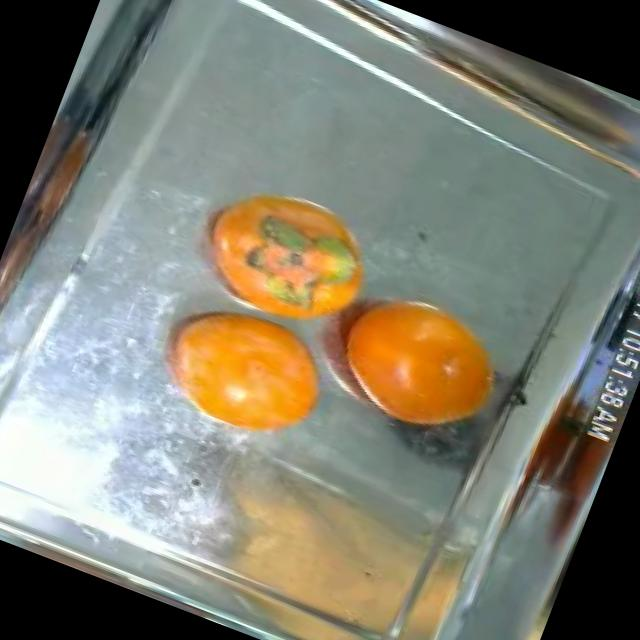Fruit: (302, 258, 538, 468), (128, 275, 362, 470), (176, 151, 406, 347)
